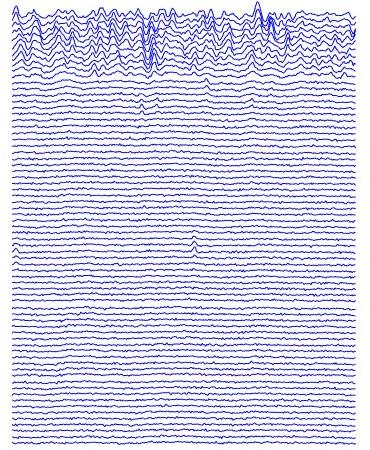defect: (84, 5, 127, 78), (315, 15, 355, 85), (254, 3, 295, 49), (142, 19, 162, 74), (134, 90, 162, 117), (198, 4, 223, 34), (28, 10, 46, 51), (186, 230, 203, 257)
